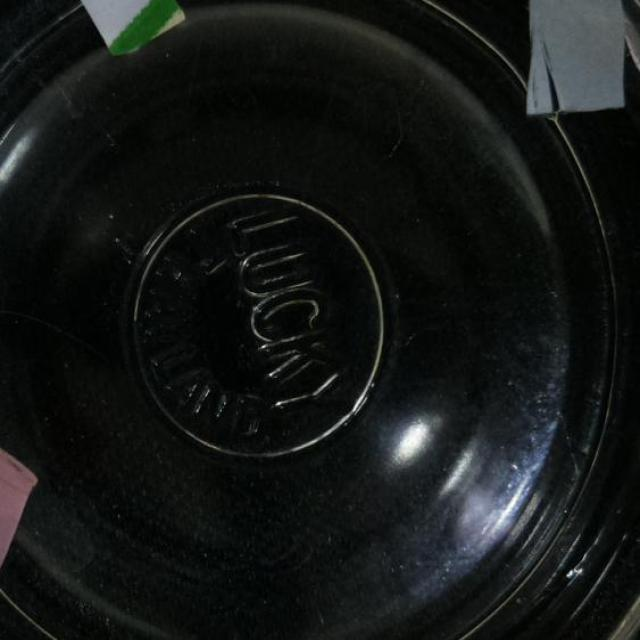fiber: (524, 2, 628, 118), (81, 0, 188, 59), (0, 443, 41, 578)
